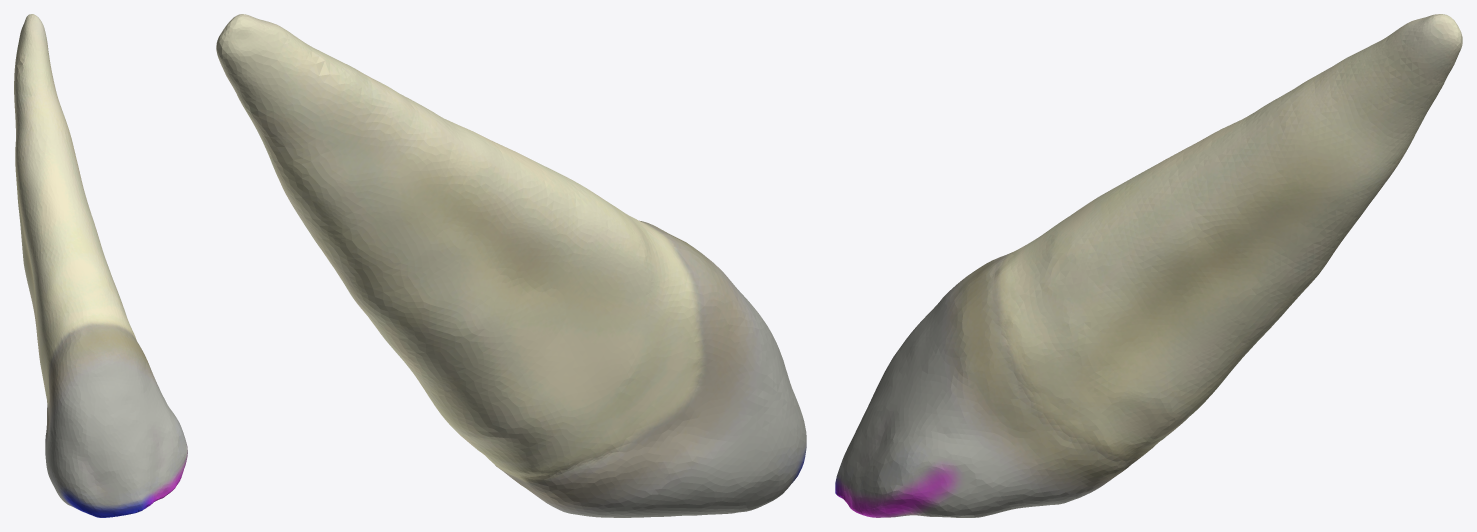
File: 23 - canino superior esquerdo - borda incisal.glb
3 views of the same model, side by side, from view 1: azimuth 30°, elevation 25°; view 2: azimuth 150°, elevation 25°; view 3: azimuth 270°, elevation 25° (orthographic). The views are drawn at different scales.
Visible parts, largest first — view 1: 3MFMeshParent_0; view 2: 3MFMeshParent_0; view 3: 3MFMeshParent_0.
Boxes of the visible parts, x1,y1,x2,y2 form: 3MFMeshParent_0: (14, 14, 187, 517); 3MFMeshParent_0: (216, 14, 806, 517); 3MFMeshParent_0: (835, 14, 1462, 517).
Bounding box in the file's own units: 0.4281 × 0.9914 × 1.01.
Materials: 1 (1 with a texture image).
